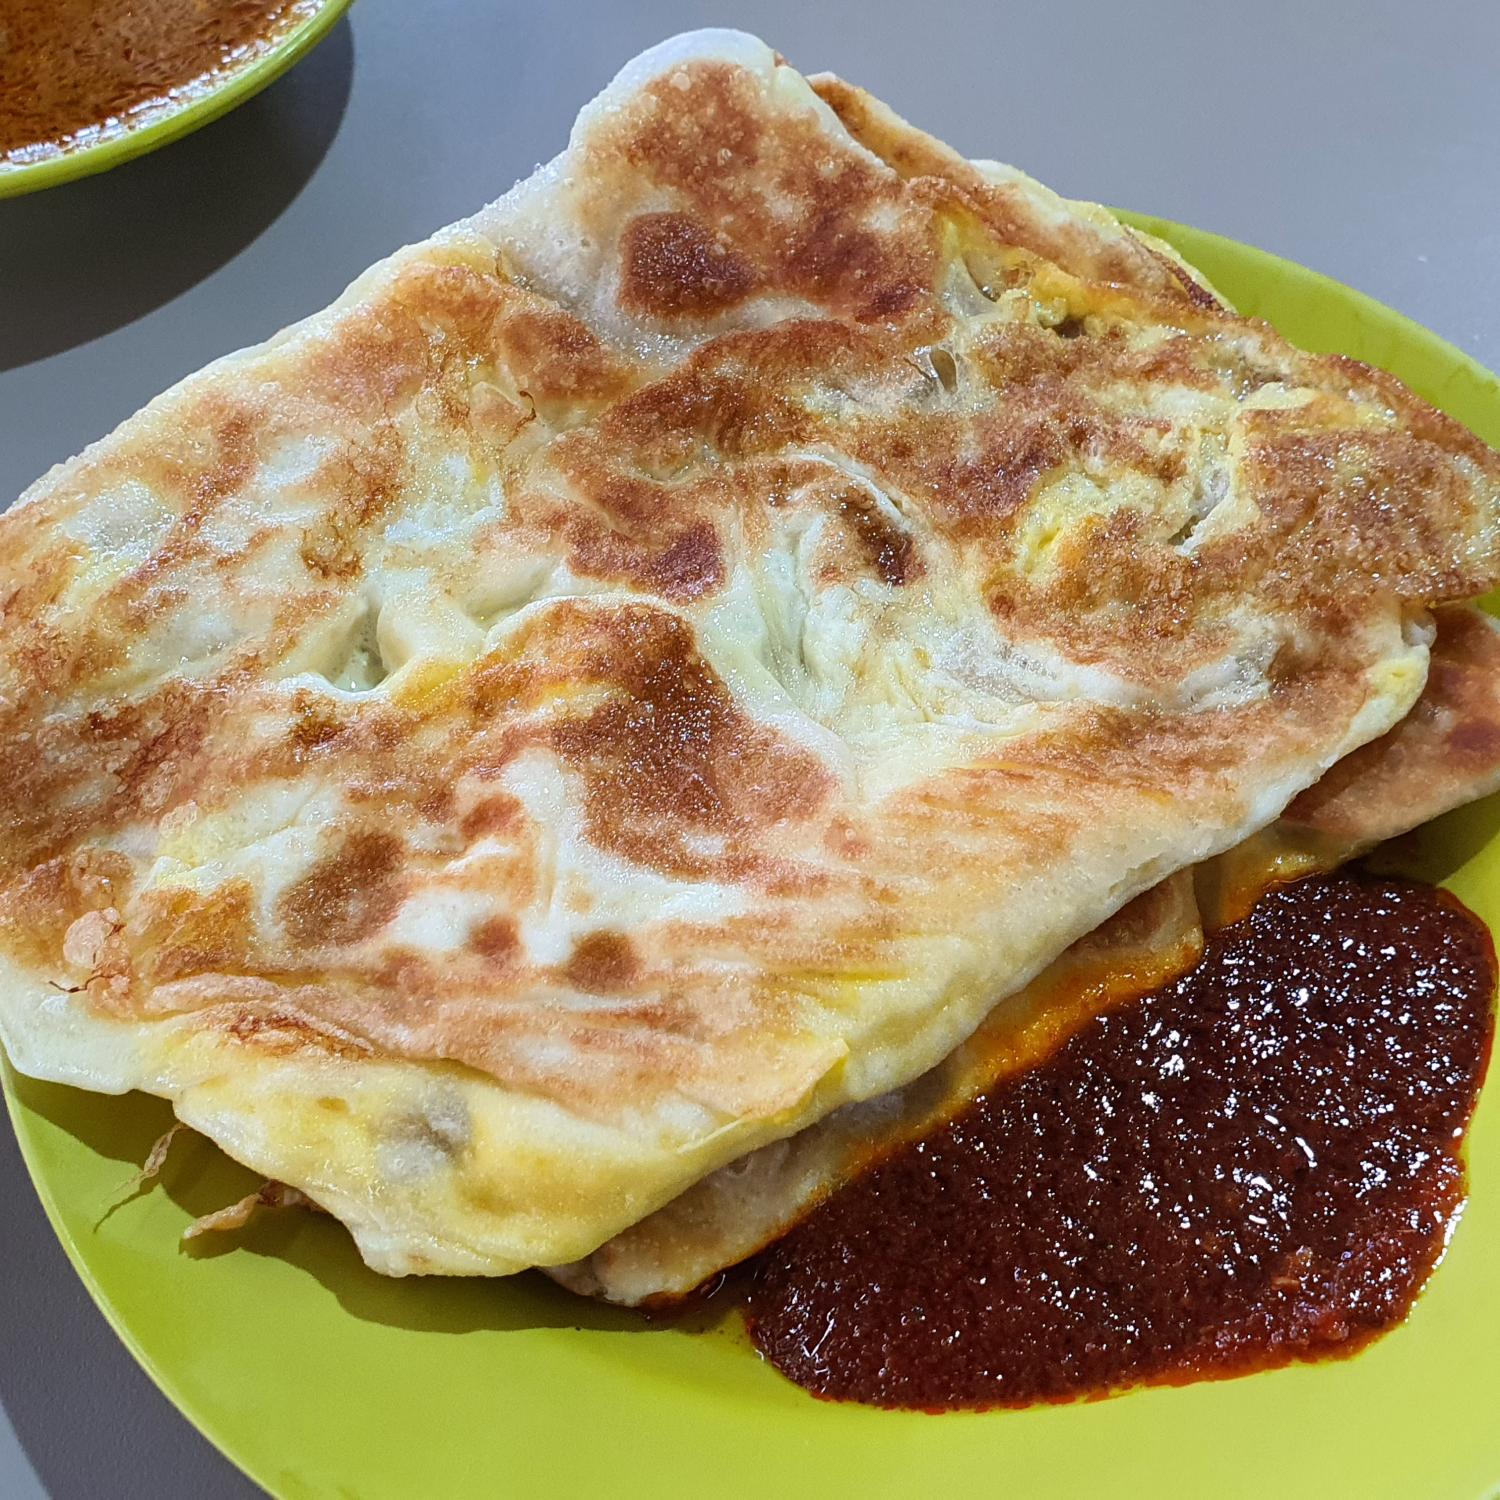Prata: (0, 111, 1470, 1238)
